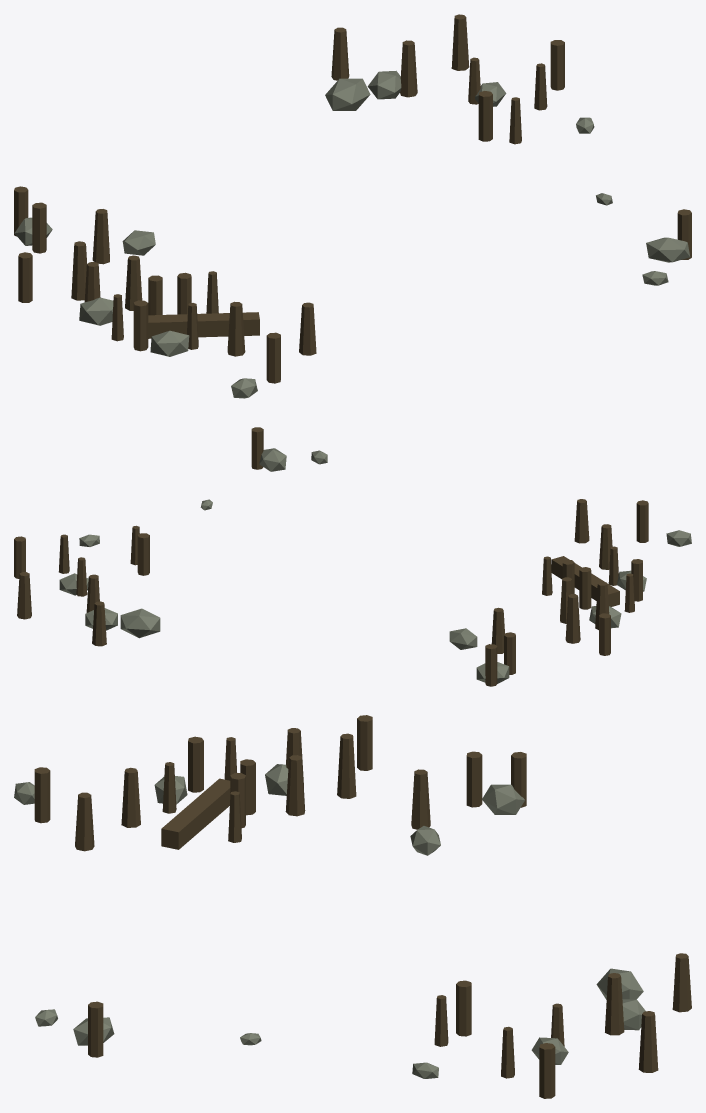
The model's file is fern_hollow_solid_props.fbx.
3 renders of one model, top to bottom at view 1: azimuth 30°, elevation 25°; view 2: azimuth 150°, elevation 25°; view 3: azimuth 270°, elevation 25°, orthographic. The views are drawn at different scales.
Visible parts, largest first — view 1: chunk_fern_hollow__PropsSolid; view 2: chunk_fern_hollow__PropsSolid; view 3: chunk_fern_hollow__PropsSolid.
Part boxes in pixels (x1,y1,x2,y2): chunk_fern_hollow__PropsSolid: [14, 14, 691, 398]; chunk_fern_hollow__PropsSolid: [14, 427, 691, 686]; chunk_fern_hollow__PropsSolid: [14, 715, 691, 1098].
Bounding box in the file's own units: 205 × 18.95 × 174.
